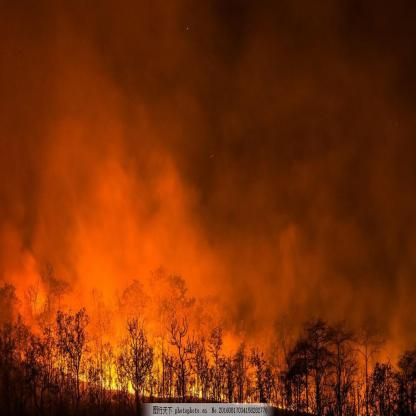fire: (98, 361, 138, 396), (187, 381, 212, 402)
smoke: (62, 129, 210, 303), (260, 182, 332, 305)
